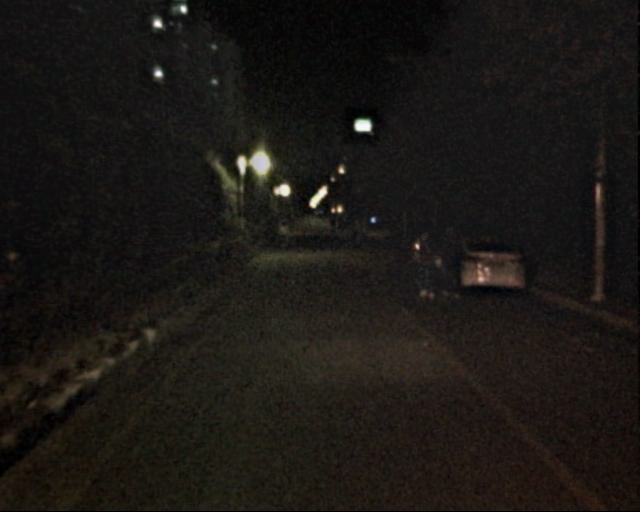person: (435, 221, 466, 297), (411, 229, 441, 302), (326, 218, 362, 246), (274, 216, 290, 254)
